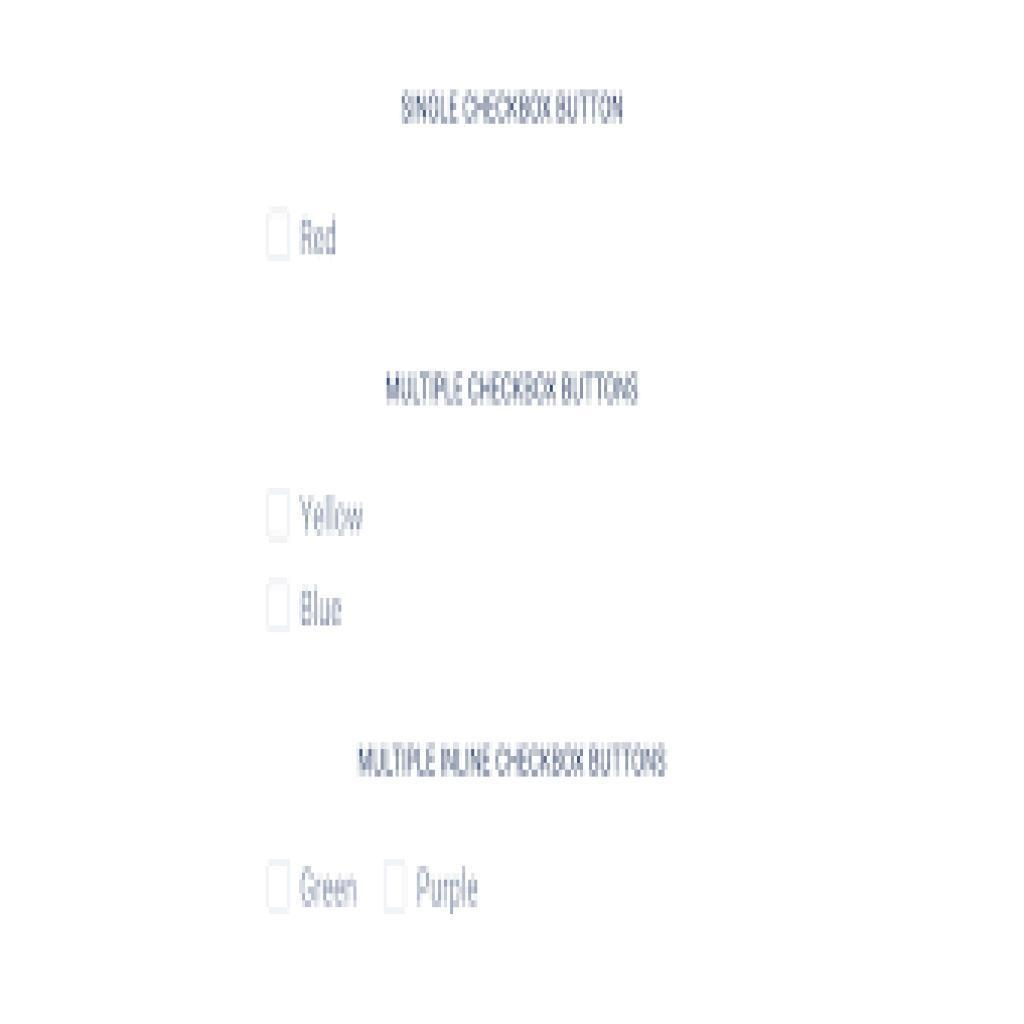checkbox: (260, 201, 296, 272), (262, 852, 296, 918), (265, 483, 296, 553), (262, 569, 293, 637), (383, 854, 412, 925)
